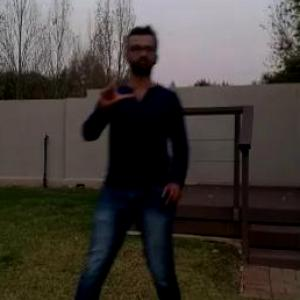land_hand: (96, 66, 135, 108)
